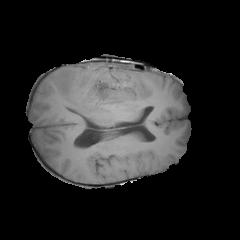glioma: (53, 70, 169, 129)
